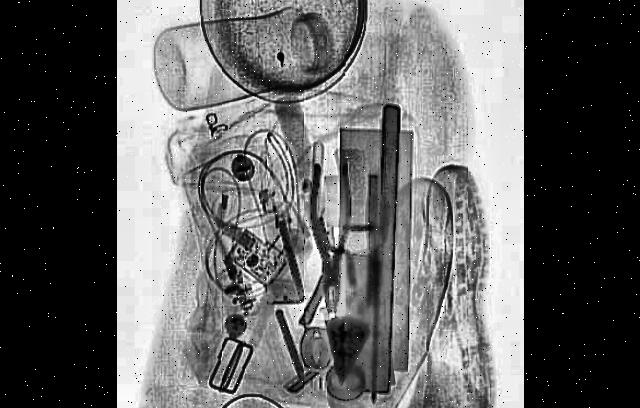Pliers: (308, 166, 350, 314)
